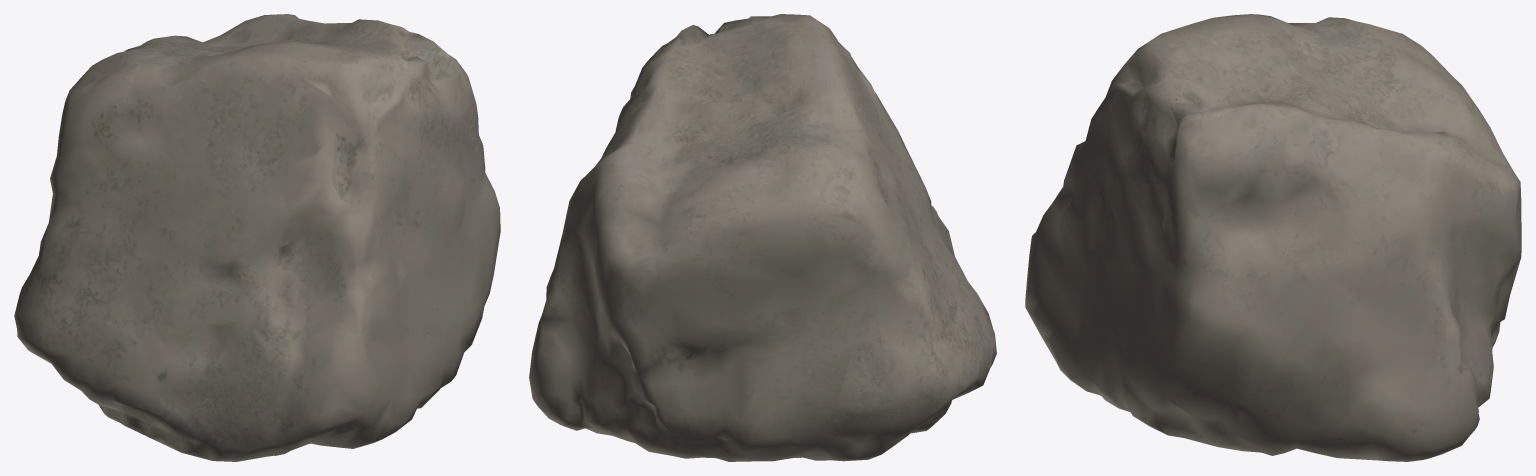
Rendered from moon_rock_02.glb.
3 views of the same model, side by side, from view 1: azimuth 30°, elevation 25°; view 2: azimuth 150°, elevation 25°; view 3: azimuth 270°, elevation 25° (orthographic). The views are drawn at different scales.
Parts seen in each view (by area): view 1: moon_rock_02_LOD0; view 2: moon_rock_02_LOD0; view 3: moon_rock_02_LOD0.
Boxes of the visible parts, x1,y1,x2,y2 form: moon_rock_02_LOD0: (14, 14, 500, 461); moon_rock_02_LOD0: (529, 14, 996, 461); moon_rock_02_LOD0: (1025, 14, 1521, 461).
Size of the model in its own units: 0.2465 by 0.2019 by 0.2513.
Materials: 1 (1 with a texture image).
